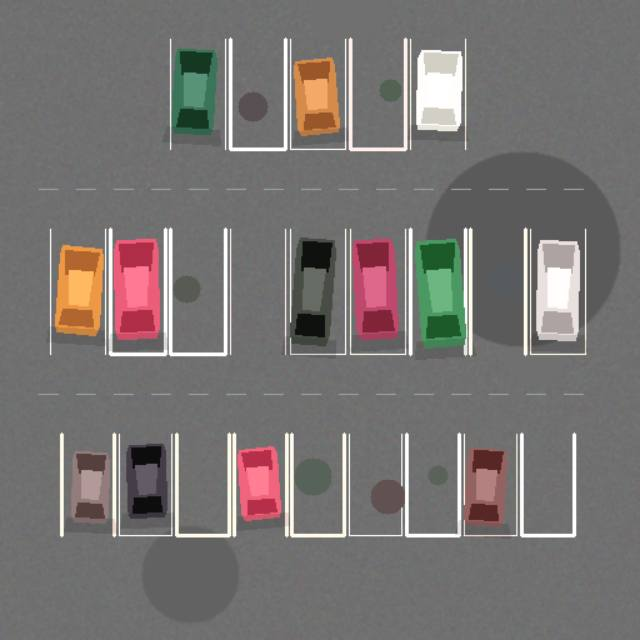space-empty: (170, 229, 225, 354), (230, 229, 285, 354), (470, 229, 525, 354), (230, 39, 285, 149), (350, 39, 405, 149), (176, 434, 229, 535), (291, 434, 344, 535), (406, 434, 459, 535), (521, 434, 574, 535), (349, 434, 401, 535)
space-occupied: (50, 229, 105, 354), (110, 229, 165, 354), (290, 229, 345, 354), (350, 229, 405, 354), (410, 229, 465, 354), (530, 229, 585, 354), (170, 39, 225, 149), (290, 39, 345, 149), (410, 39, 465, 149), (61, 434, 114, 535), (119, 434, 171, 535), (234, 434, 286, 535), (464, 434, 516, 535)
